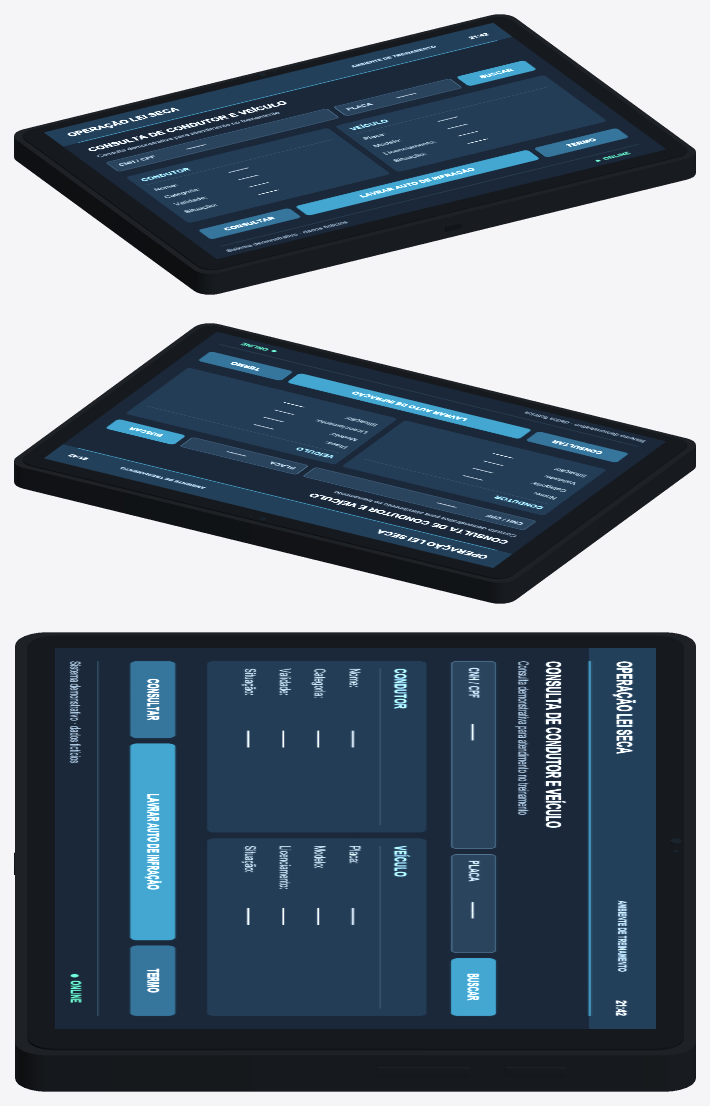
Rendered from tablet.glb.
3 views of the same model, one above another, from view 1: azimuth 30°, elevation 25°; view 2: azimuth 150°, elevation 25°; view 3: azimuth 270°, elevation 25° (orthographic). The views are drawn at different scales.
Visible parts, largest first — view 1: Tela de consulta de condutor e veiculo, Carcaca do tablet, Moldura frontal; view 2: Tela de consulta de condutor e veiculo, Carcaca do tablet, Moldura frontal; view 3: Tela de consulta de condutor e veiculo, Moldura frontal, Carcaca do tablet, Controle de volume.
Part boxes in pixels (box(x1,y1,x2,y2)): Tela de consulta de condutor e veiculo: box(44, 23, 665, 258); Carcaca do tablet: box(14, 14, 695, 294); Moldura frontal: box(22, 16, 687, 270); Tela de consulta de condutor e veiculo: box(44, 332, 665, 567); Carcaca do tablet: box(14, 323, 695, 603); Moldura frontal: box(22, 325, 687, 579); Tela de consulta de condutor e veiculo: box(55, 648, 655, 1028); Moldura frontal: box(27, 635, 683, 1050); Carcaca do tablet: box(15, 632, 695, 1091); Controle de volume: box(377, 1067, 469, 1076).
Bounding box in the file's own units: 0.2503 × 0.0115 × 0.1703.
Materials: 5 (1 with a texture image).
